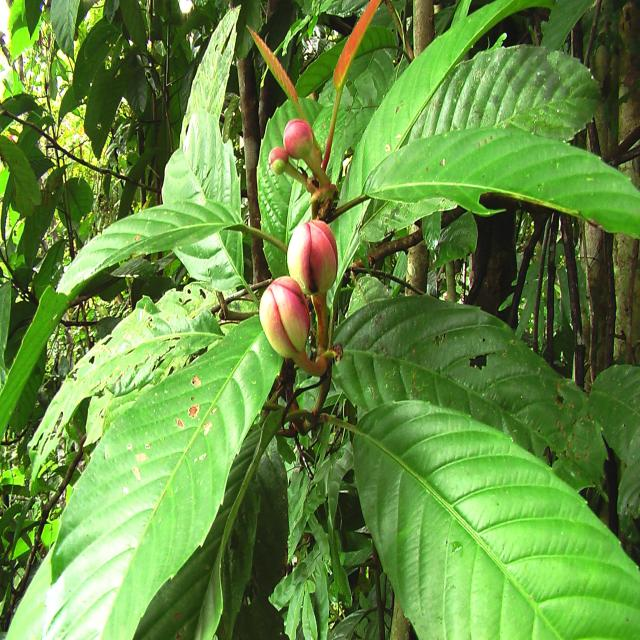Simpoh-Lak: (258, 118, 338, 376)
